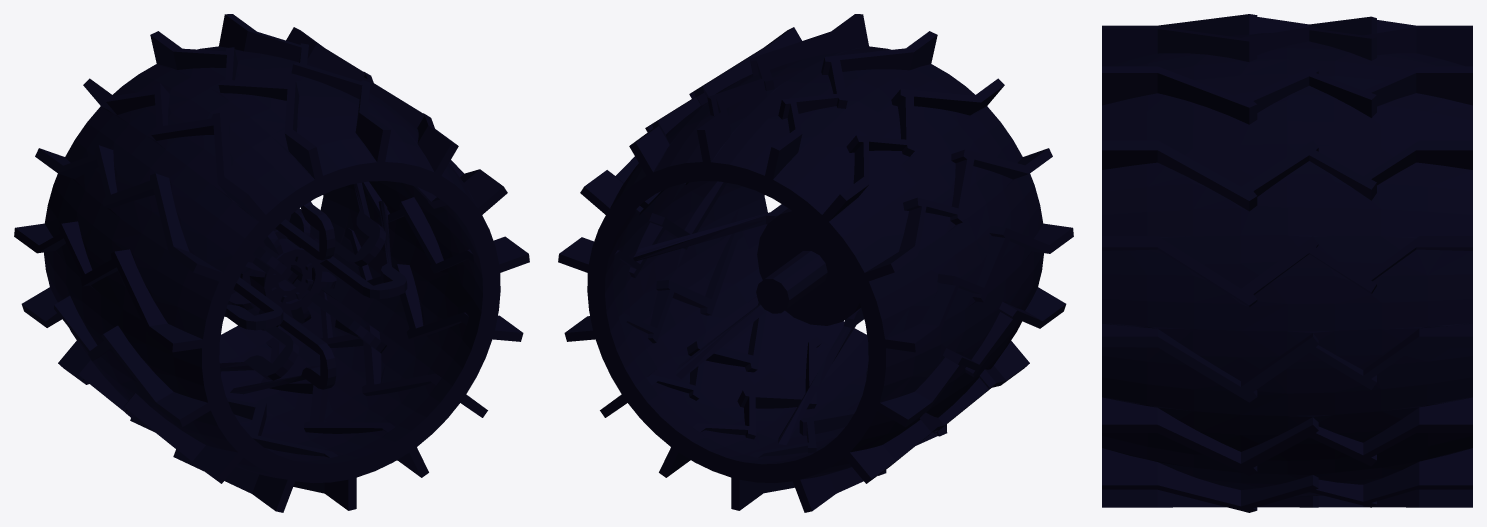
Rendered from Mars6Mars_Rover__Curiosity_1_0__-_1__Rover_Wheel_left_2.001.dae.
3 renders of one model, left to right at view 1: azimuth 30°, elevation 25°; view 2: azimuth 150°, elevation 25°; view 3: azimuth 270°, elevation 25°, orthographic. The views are drawn at different scales.
Parts seen in each view (by area): view 1: tmp_export_Mars6Mars_Rover__Curiosity_1_0__-_1__Rover_Wheel_; view 2: tmp_export_Mars6Mars_Rover__Curiosity_1_0__-_1__Rover_Wheel_; view 3: tmp_export_Mars6Mars_Rover__Curiosity_1_0__-_1__Rover_Wheel_.
Part boxes in pixels (left/top/right/bottom): tmp_export_Mars6Mars_Rover__Curiosity_1_0__-_1__Rover_Wheel_: left=14, top=14, right=529, bottom=512; tmp_export_Mars6Mars_Rover__Curiosity_1_0__-_1__Rover_Wheel_: left=558, top=14, right=1073, bottom=512; tmp_export_Mars6Mars_Rover__Curiosity_1_0__-_1__Rover_Wheel_: left=1102, top=14, right=1472, bottom=512.
Size of the model in its own units: 1.01 by 0.7474 by 1.
